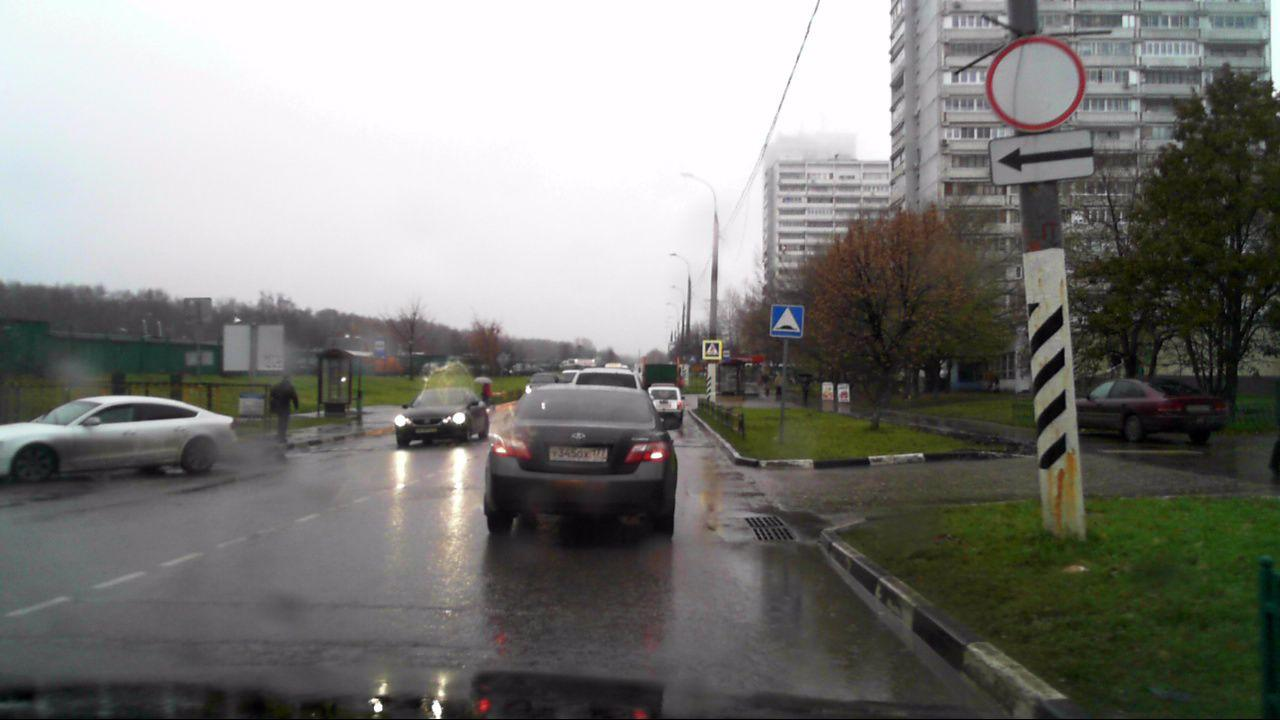3_2: (986, 38, 1086, 132)
5_16: (373, 337, 386, 359)
5_19_1: (705, 342, 719, 358)
5_20: (769, 303, 805, 339)
8_3_2: (986, 130, 1093, 184)
